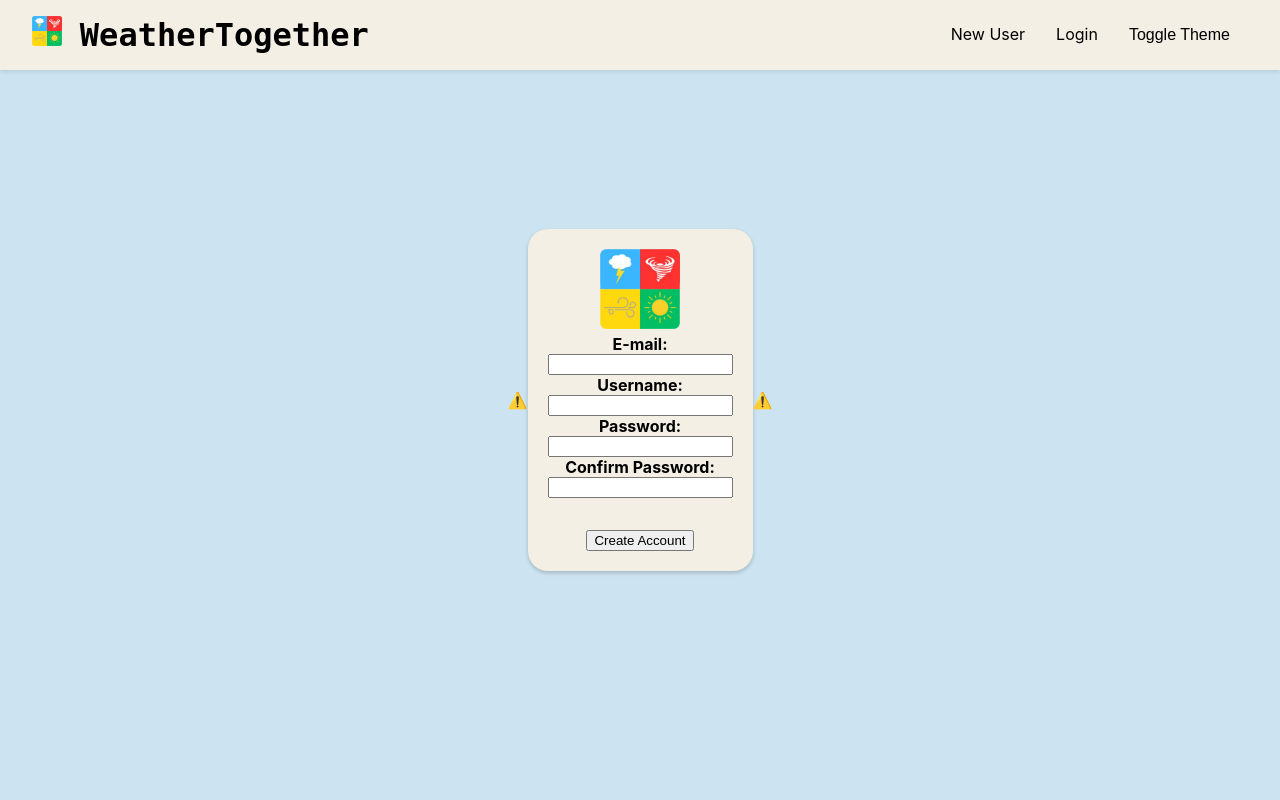
Scenario: Should allow New User creation with checks › Should fail creation if email format is incorrect
The image size is (1280, 800).
In the field with class "email": x=641, y=365 [548,354,733,375], type "testemail"
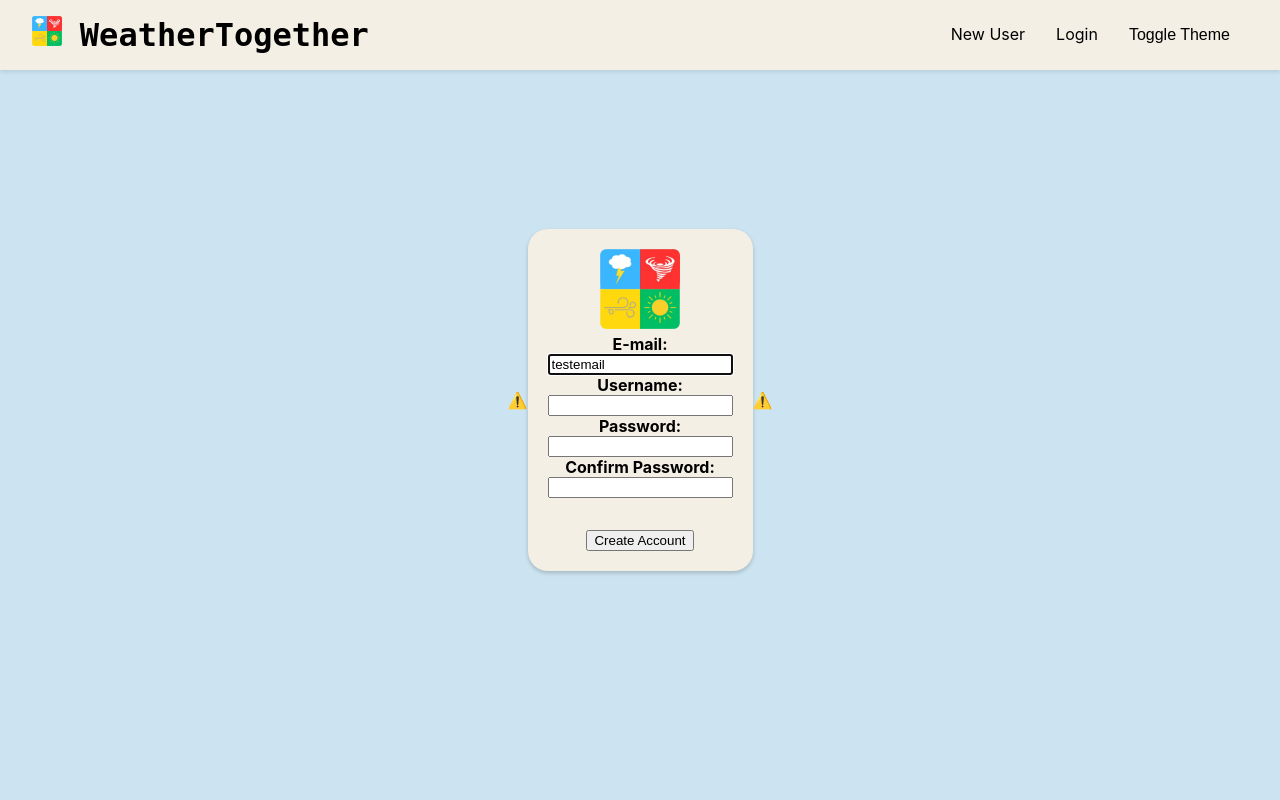
Click the button with class "create-account": x=640, y=541 [586,530,693,551]
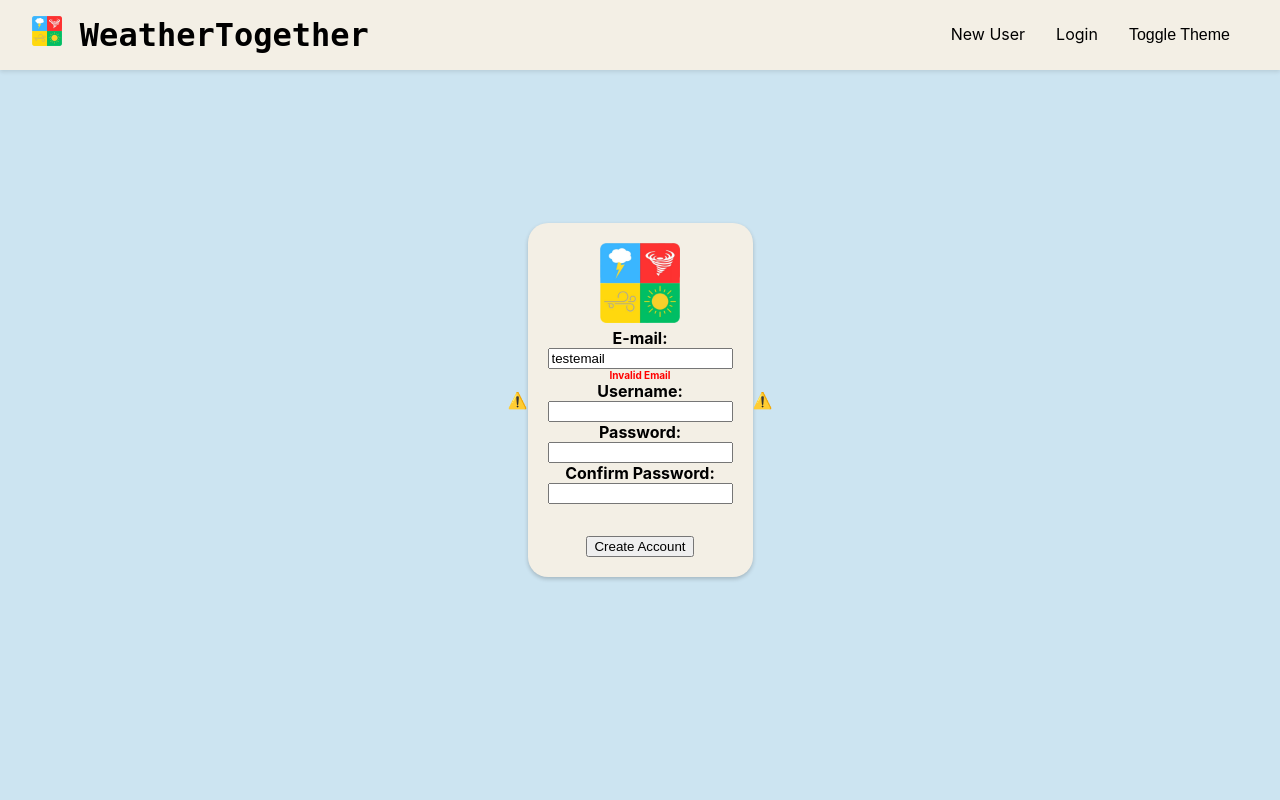
expect the label with class "email-error" reads "Invalid Email": met, box [610,369,671,381]
